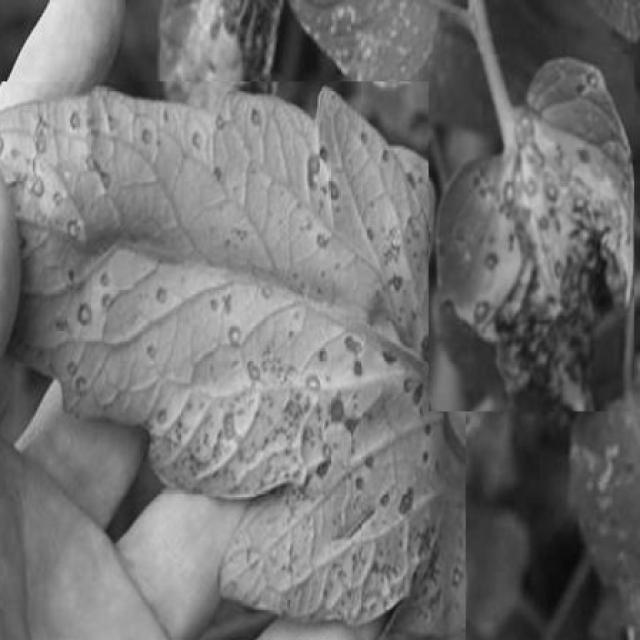Septoria: (0, 81, 466, 640), (429, 54, 634, 412)
